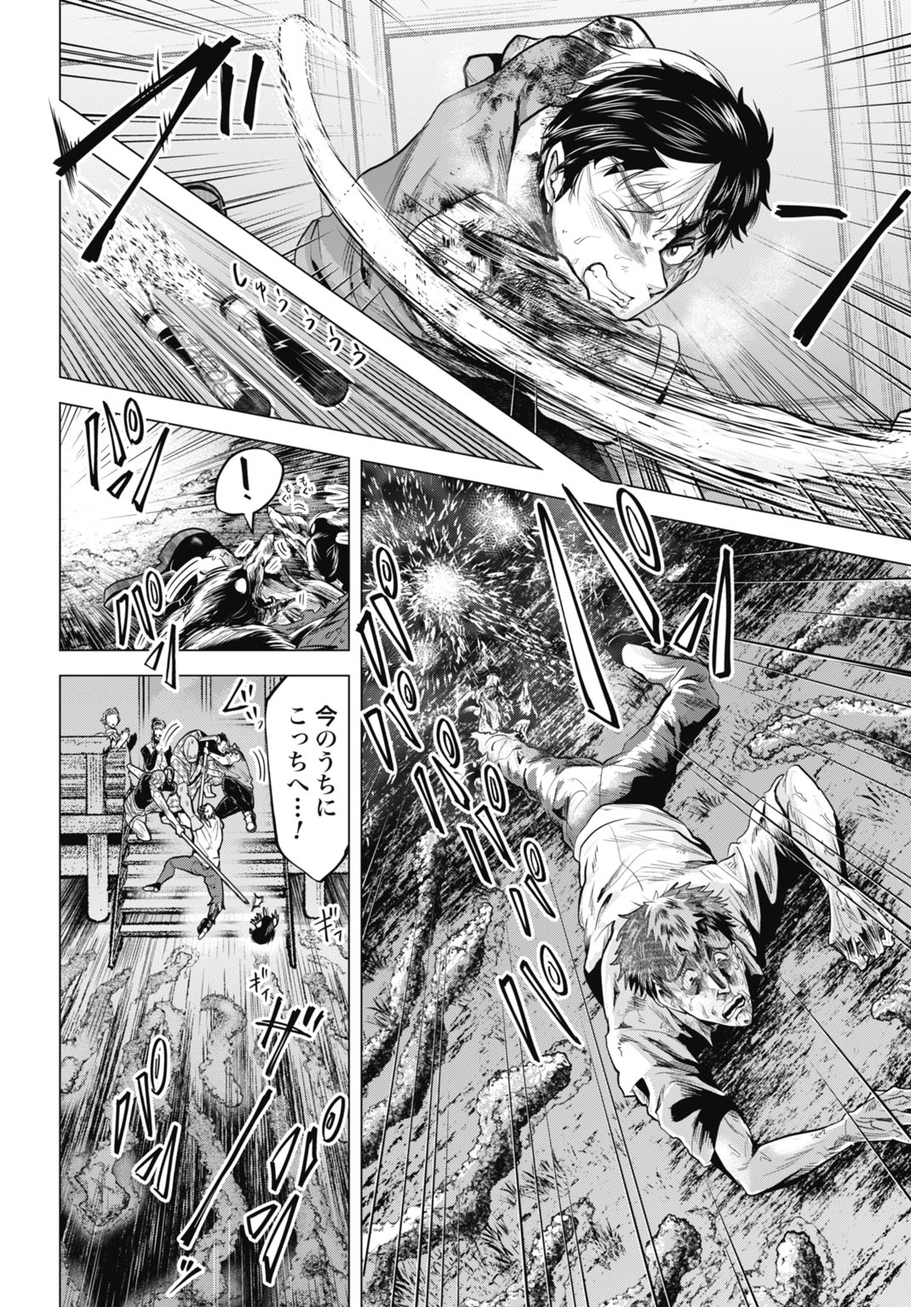bubbles: (255, 673, 356, 887), (200, 439, 294, 545)
